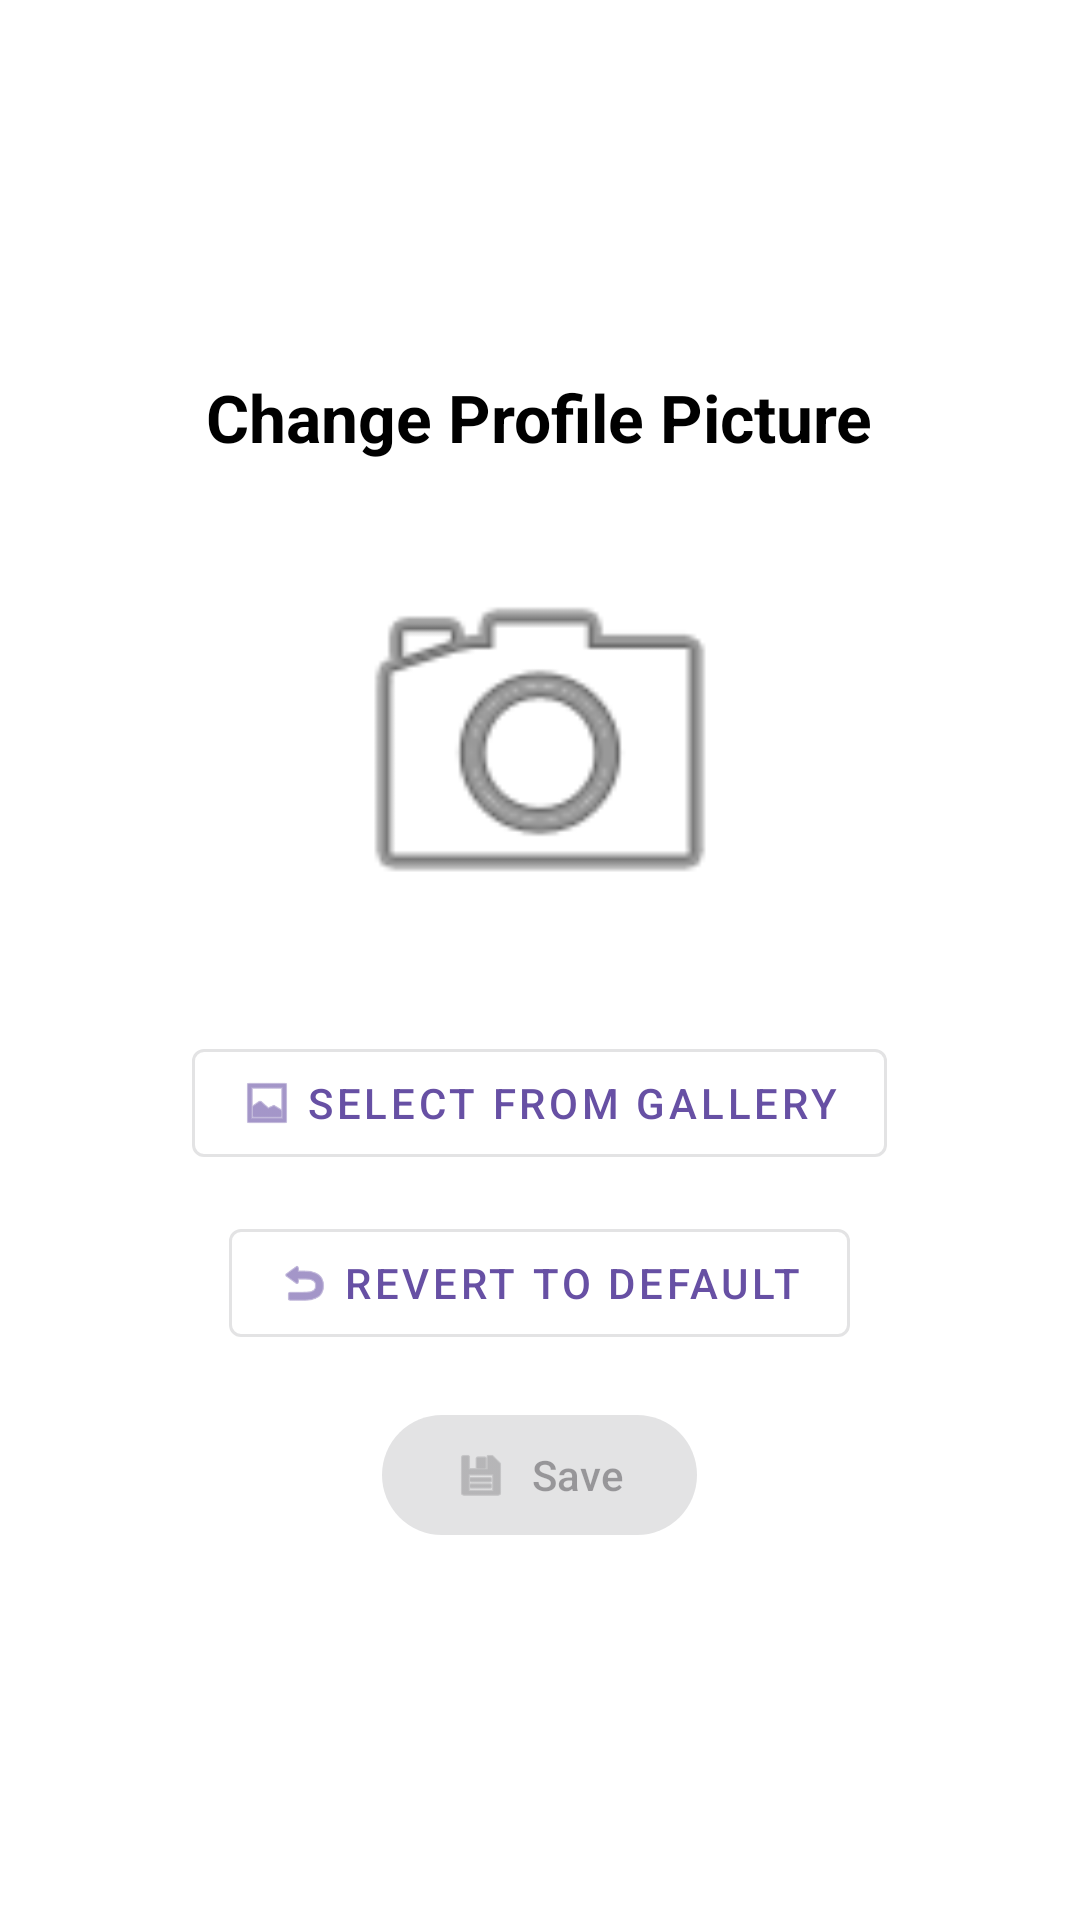

Screen size 1080×1920. Icon name, then its center in pixels as point (x, y):
camera: point (540, 739)
